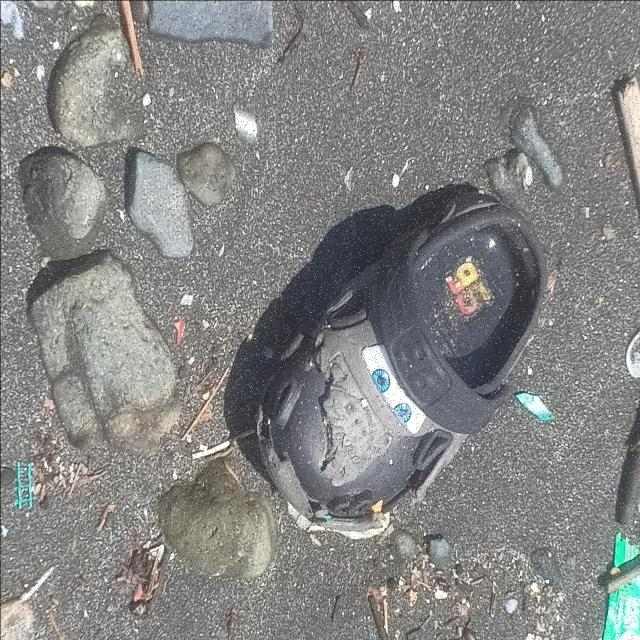rubber_waste: (256, 191, 550, 523)
